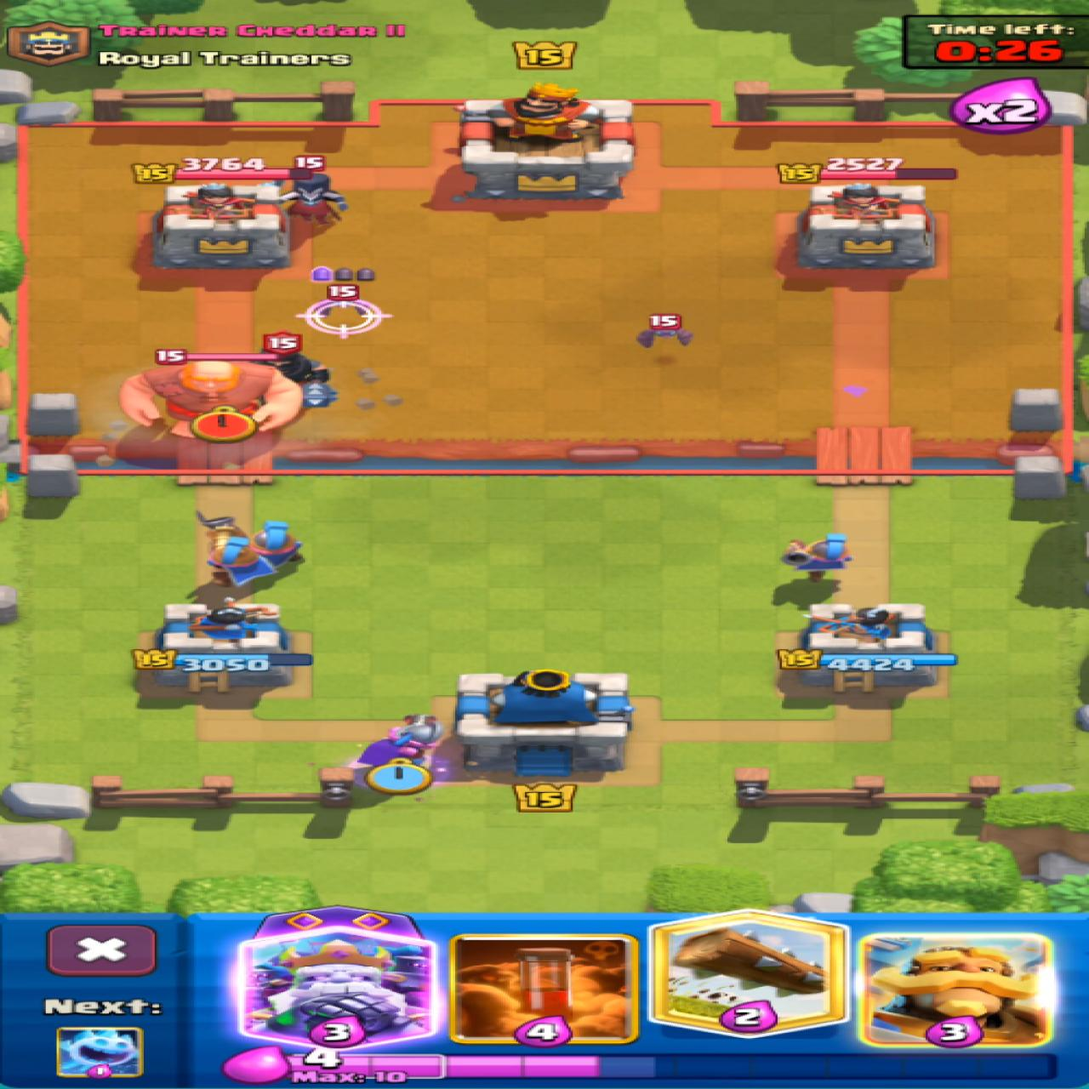Enemy-Bat: (294, 285, 390, 339), (636, 315, 693, 347)
Enemy-DarkPrince-Shield: (266, 332, 335, 406)
Enemy-Giant: (120, 359, 298, 437)
Enemy-KingTower: (457, 84, 634, 198)
Enemy-NightWitch: (274, 174, 346, 224)
Enemy-PrincessTower: (797, 182, 934, 268), (152, 182, 287, 267)
